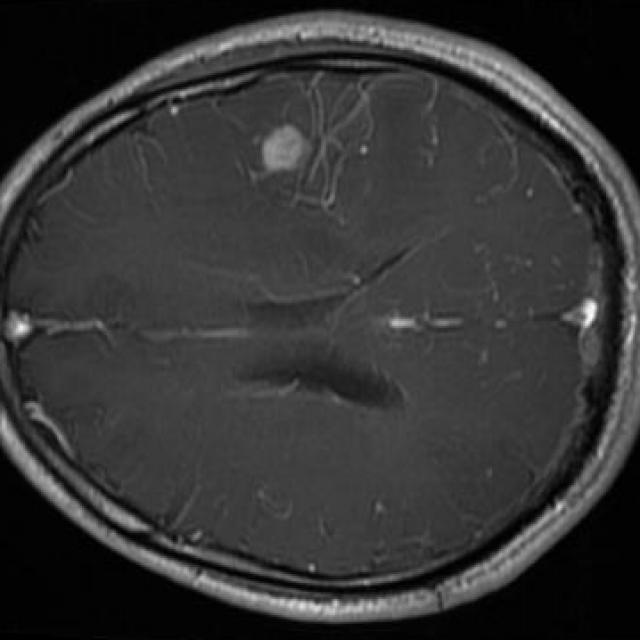glioma: (262, 78, 373, 212)
